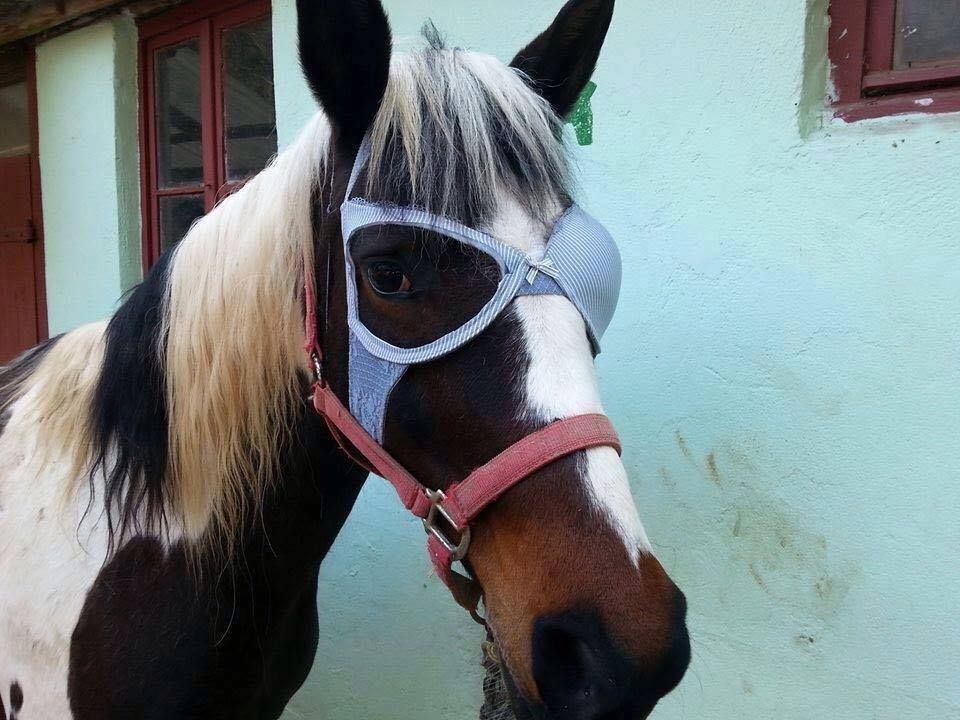Horse: (39, 25, 725, 703)
